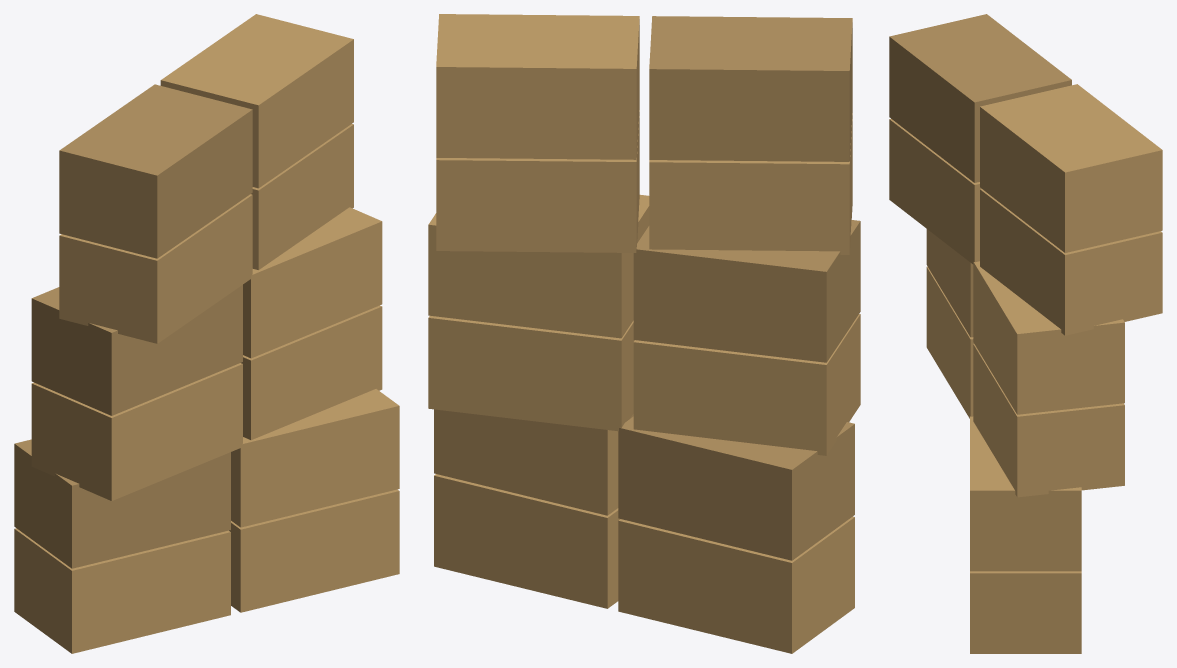
File: Block_Sandstone.fbx
3 renders of one model, left to right at view 1: azimuth 30°, elevation 25°; view 2: azimuth 150°, elevation 25°; view 3: azimuth 270°, elevation 25°, orthographic. The views are drawn at different scales.
Parts seen in each view (by area): view 1: Block_Sandstone__Stack, Block_Sandstone; view 2: Block_Sandstone__Stack, Block_Sandstone; view 3: Block_Sandstone__Stack, Block_Sandstone.
Boxes of the visible parts, bbox=[...] form: Block_Sandstone__Stack: bbox=[15, 14, 399, 653]; Block_Sandstone: bbox=[14, 415, 312, 653]; Block_Sandstone__Stack: bbox=[428, 14, 860, 516]; Block_Sandstone: bbox=[434, 409, 854, 653]; Block_Sandstone__Stack: bbox=[889, 14, 1162, 653]; Block_Sandstone: bbox=[970, 416, 1081, 653].
Bounding box in the file's own units: 0.1722 × 0.2398 × 0.123.
